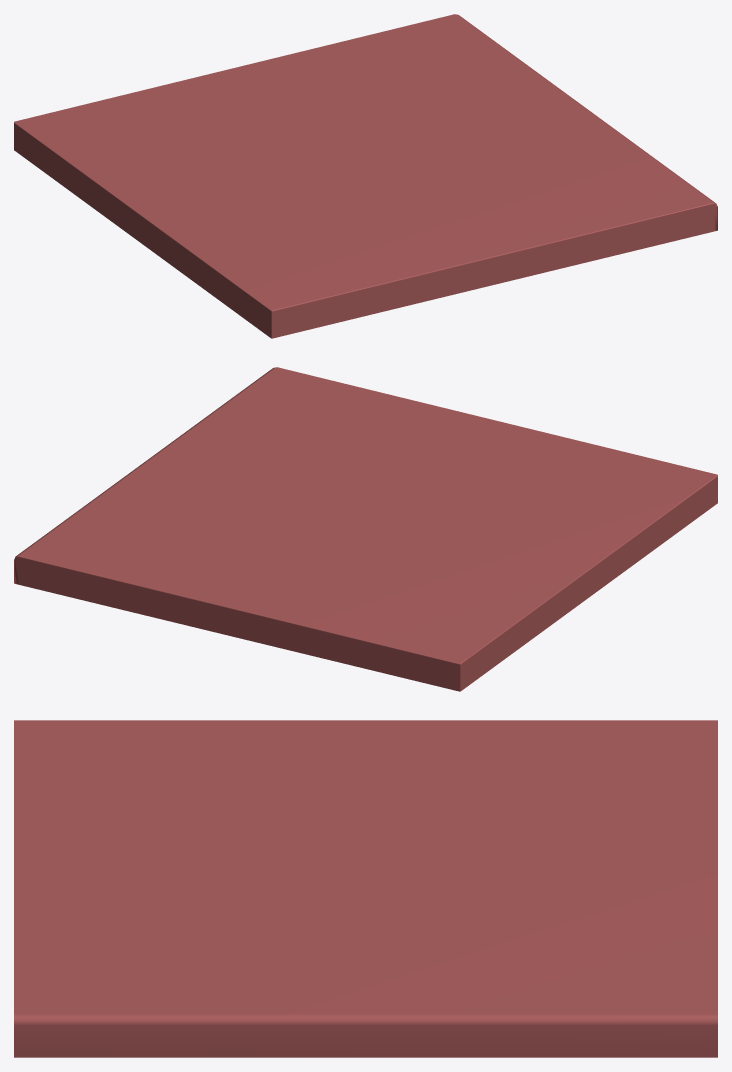
The model's file is obj_street_end_01.fbx.
3 renders of one model, top to bottom at view 1: azimuth 30°, elevation 25°; view 2: azimuth 150°, elevation 25°; view 3: azimuth 270°, elevation 25°, orthographic. The views are drawn at different scales.
Parts seen in each view (by area): view 1: obj_street_end_01; view 2: obj_street_end_01; view 3: obj_street_end_01.
Boxes of the visible parts, x1,y1,x2,y2 form: obj_street_end_01: (14, 14, 717, 338); obj_street_end_01: (14, 367, 717, 691); obj_street_end_01: (14, 720, 717, 1057).
Bounding box in the file's own units: 56 × 3.5 × 56.
